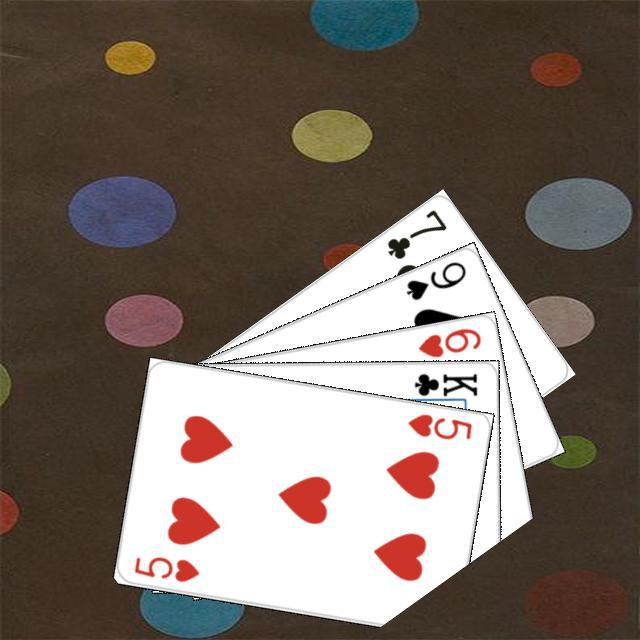5h: (402, 409, 474, 442), (129, 551, 201, 584)
6h: (413, 323, 483, 359)
7c: (382, 204, 449, 262)
9s: (401, 256, 468, 302)
Kc: (402, 368, 479, 404)
